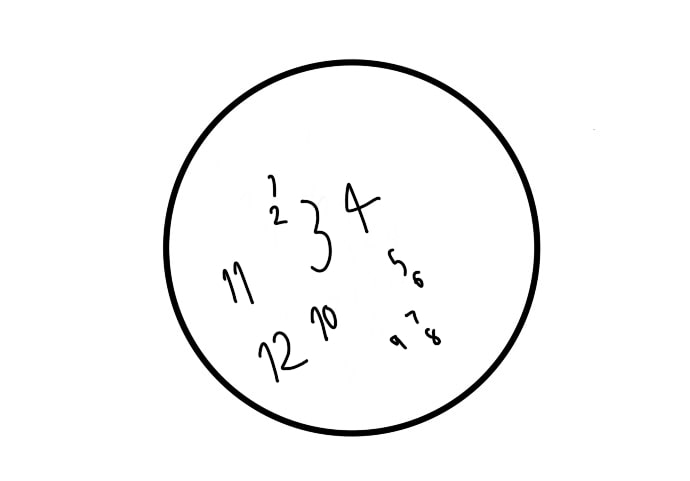eight: (422, 324, 443, 347)
eleven: (218, 259, 256, 306)
five: (384, 244, 408, 278)
four: (340, 179, 381, 237)
nine: (388, 333, 408, 352)
one: (266, 170, 281, 200)
seven: (403, 309, 421, 327)
six: (409, 266, 429, 293)
ten: (306, 301, 342, 344)
three: (297, 196, 334, 276)
twelve: (258, 329, 310, 383)
two: (268, 204, 288, 225)
